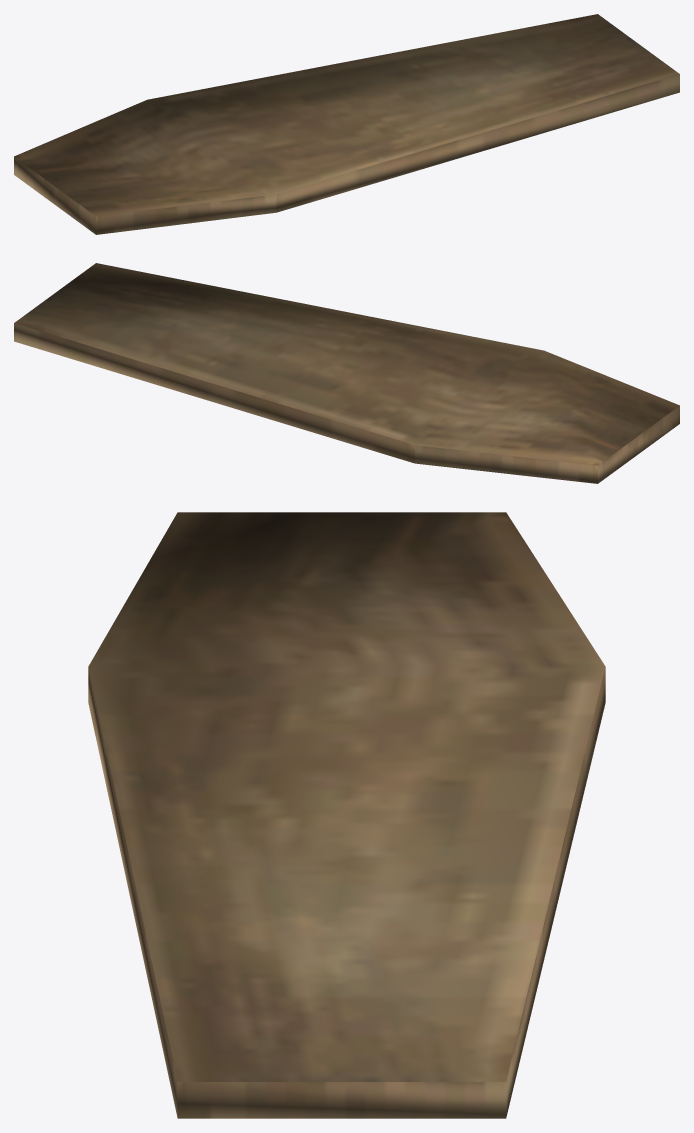
Rendered from coffinlid.glb.
3 renders of one model, top to bottom at view 1: azimuth 30°, elevation 25°; view 2: azimuth 150°, elevation 25°; view 3: azimuth 270°, elevation 25°, orthographic. The views are drawn at different scales.
Bounding box in the file's own units: 2.77 × 0.0833 × 1.06.
1 material, 1 textured.
